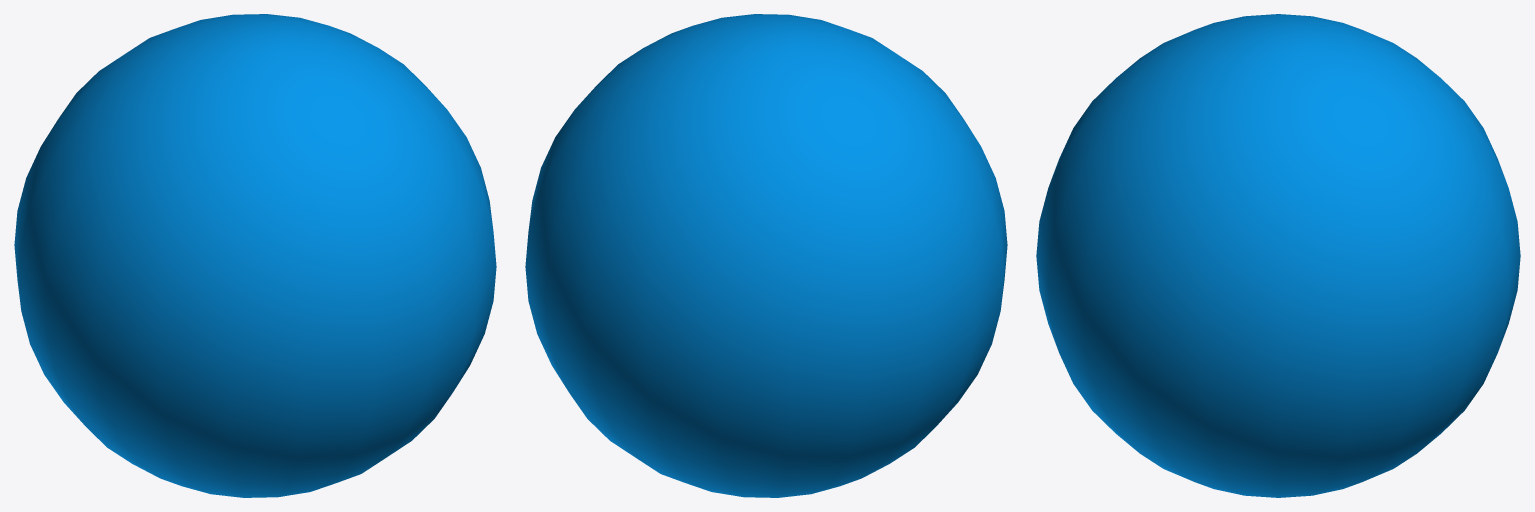
The model's file is WorldMap.fbx.
3 views of the same model, side by side, from view 1: azimuth 30°, elevation 25°; view 2: azimuth 150°, elevation 25°; view 3: azimuth 270°, elevation 25° (orthographic).
Parts seen in each view (by area): view 1: pSphere1; view 2: pSphere1; view 3: pSphere1.
Boxes of the visible parts, x1,y1,x2,y2 form: pSphere1: (14, 14, 496, 497); pSphere1: (525, 14, 1007, 497); pSphere1: (1036, 14, 1520, 497).
Bounding box in the file's own units: 43 × 43 × 43.
